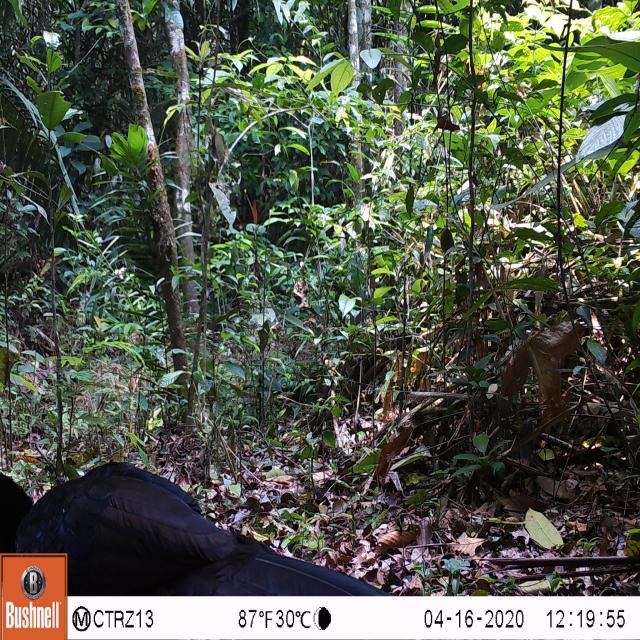Salvins Curassow: (0, 451, 387, 597)
